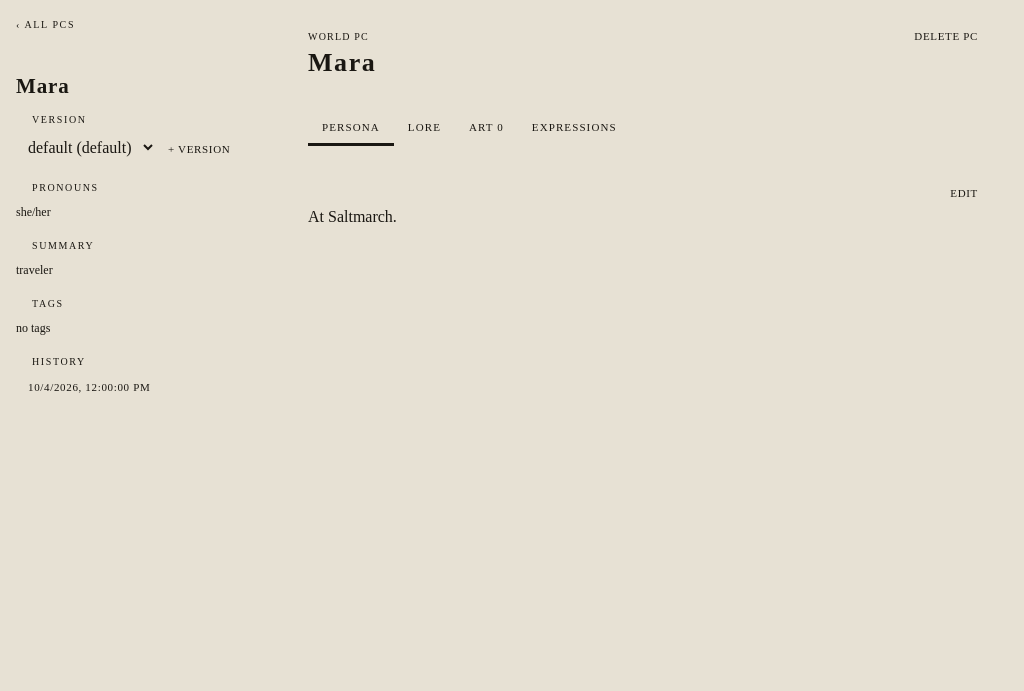
Scenario: history cannot be opened over an unsaved edit
Expected: the heading "Mara" below "World PC" is shown, [308,48,376,77]
Click the button "Edit".
click(964, 193)  # box [938,181,990,205]
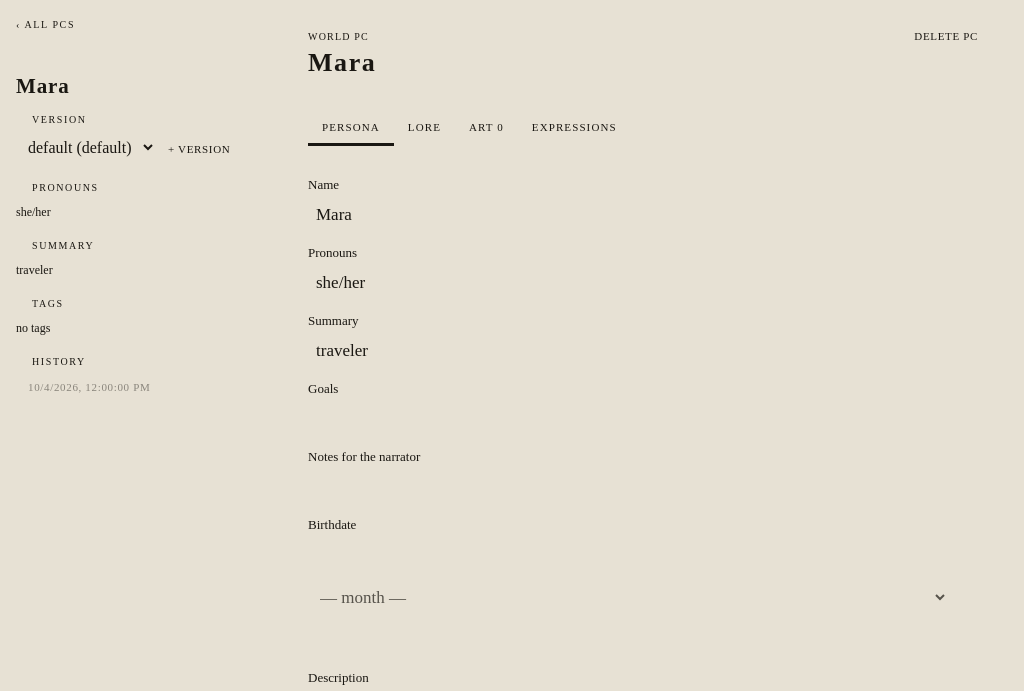
Now the button "10/4/2026, 12:00:00 PM" is disabled, box [16,375,258,399]
